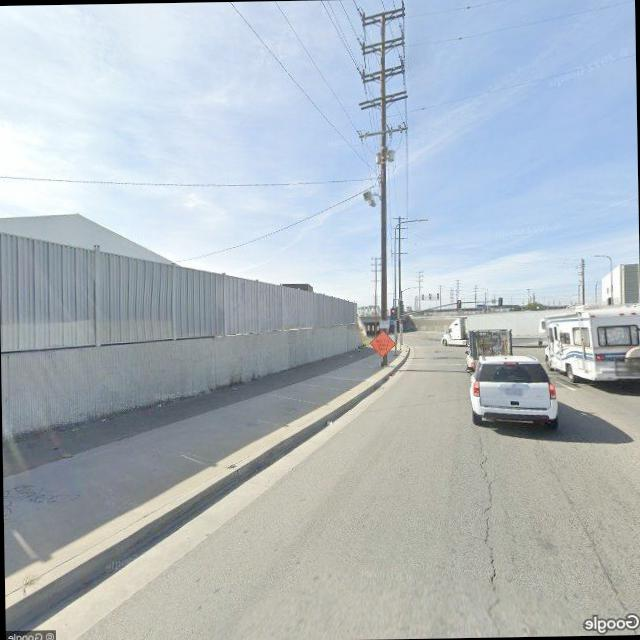crack: (471, 422, 507, 614)
